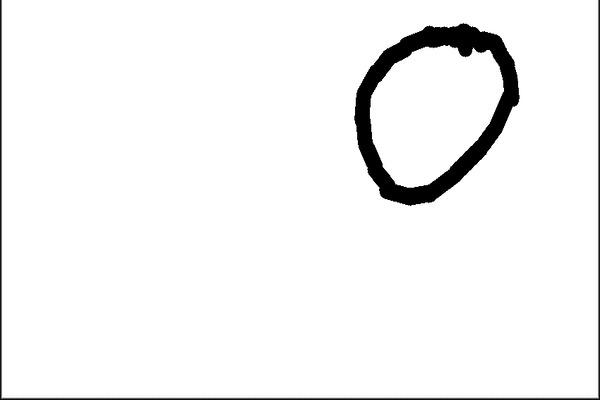O: (330, 17, 544, 223)
